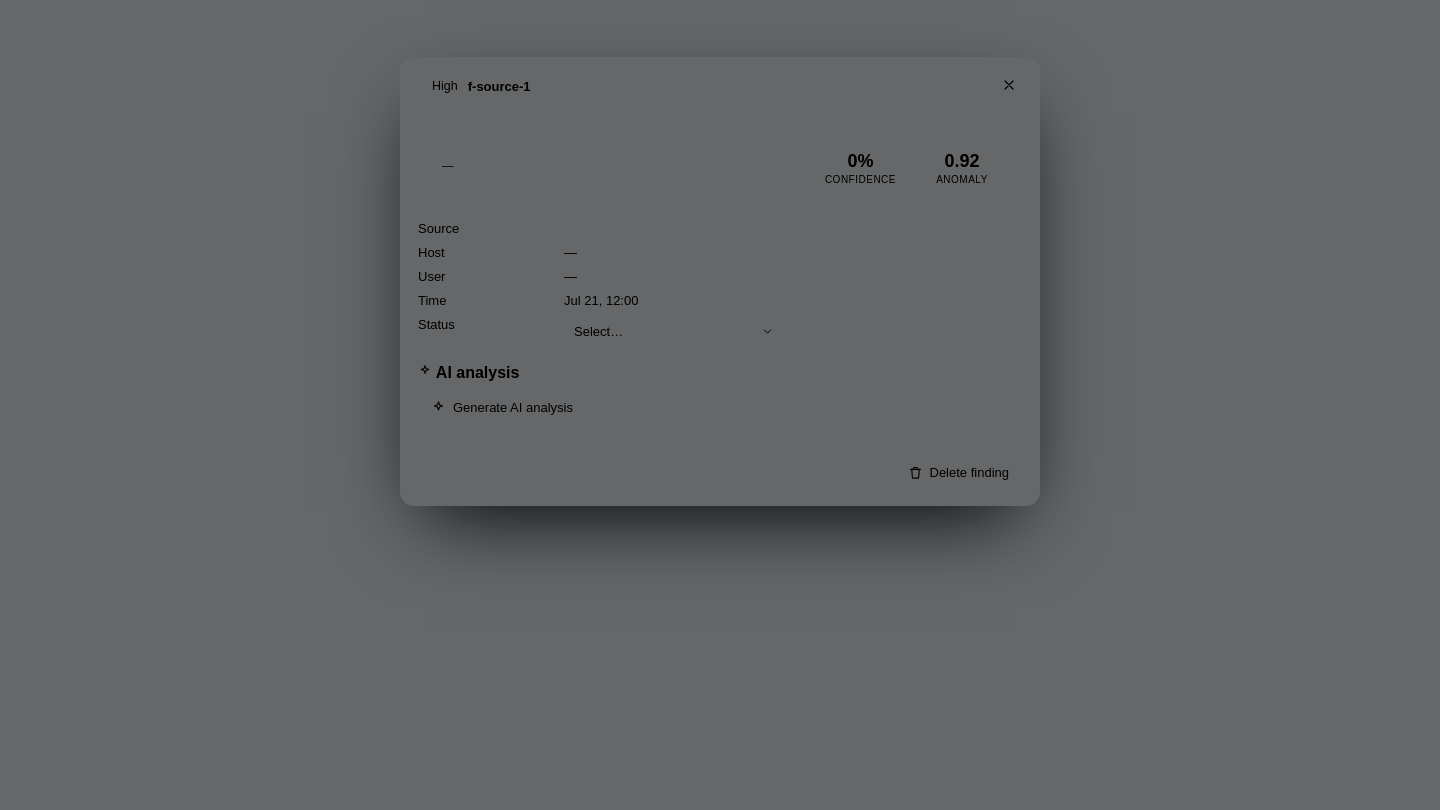
Test case: FindingPopup AI enrichment errors › never says the model is local while the analysis runs
Click the button "Generate AI analysis" at (502, 407), box x1=418 y1=392 x2=586 y2=423
Wait 75000 ms
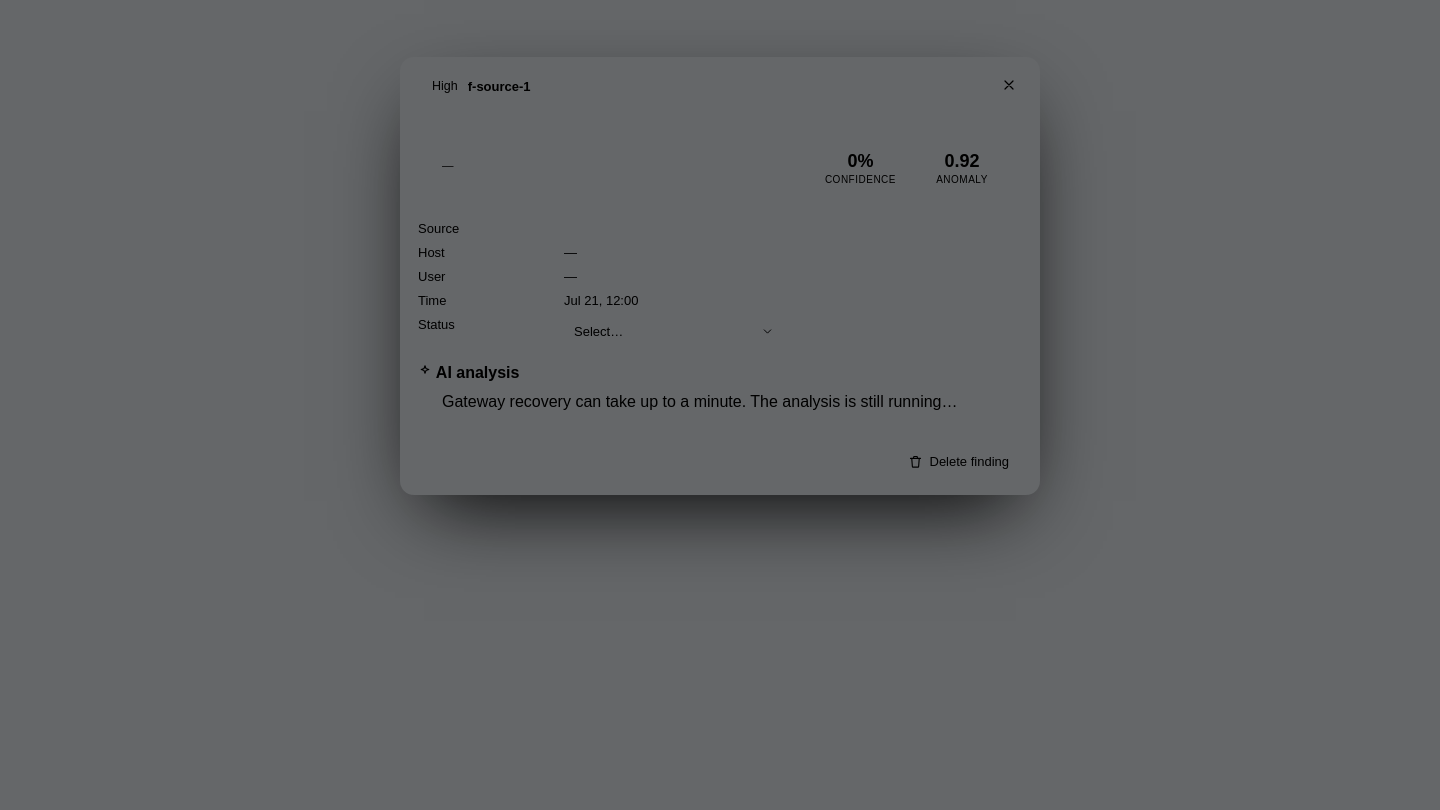
Now the element with class "fp-ai-progress" shows "still running", box x1=442 y1=393 x2=958 y2=410
